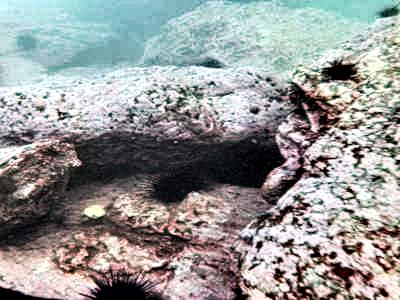urchin: (77, 263, 161, 297), (139, 172, 201, 201), (326, 60, 351, 79), (377, 4, 395, 19)
